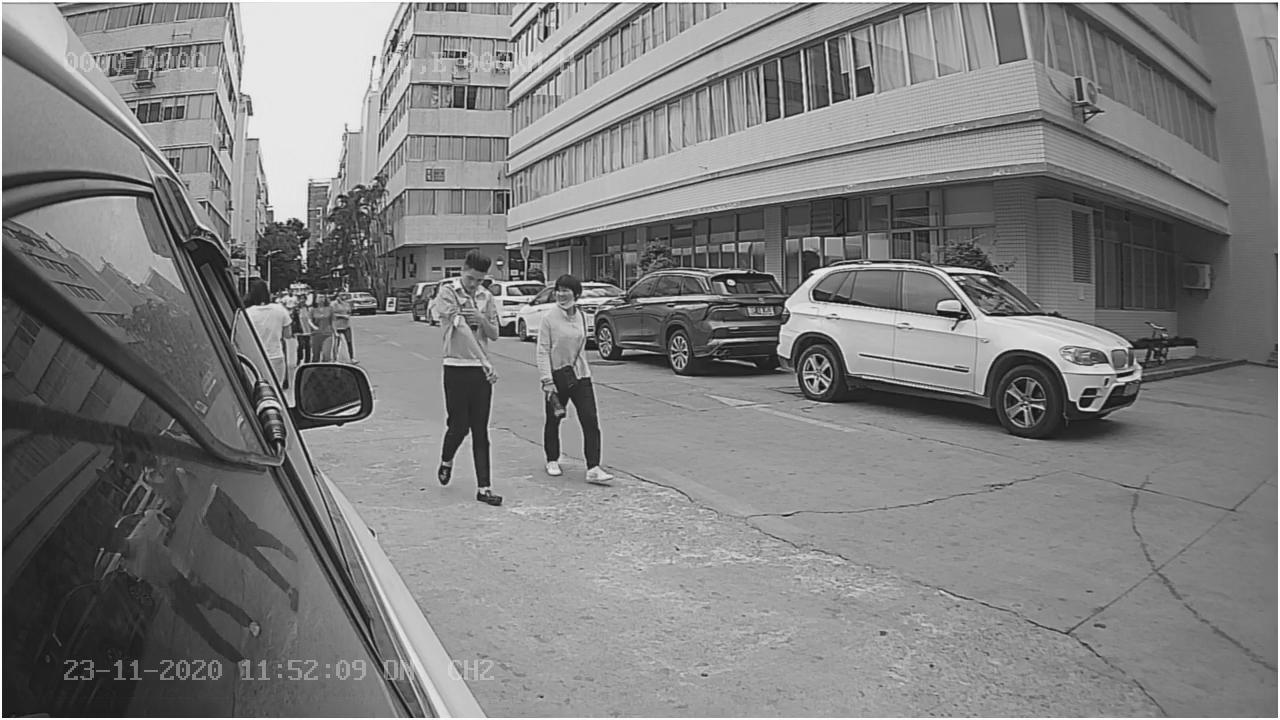person: (431, 245, 512, 504), (533, 271, 616, 489)
